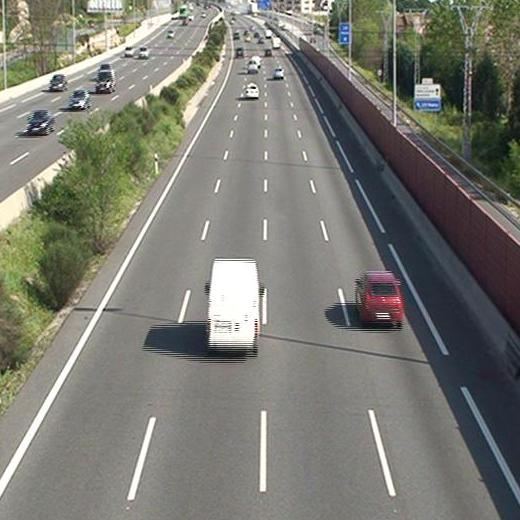car: (355, 273, 403, 324), (244, 83, 258, 98), (247, 59, 259, 72), (273, 67, 283, 79), (234, 46, 243, 58)
van: (208, 259, 258, 349)
